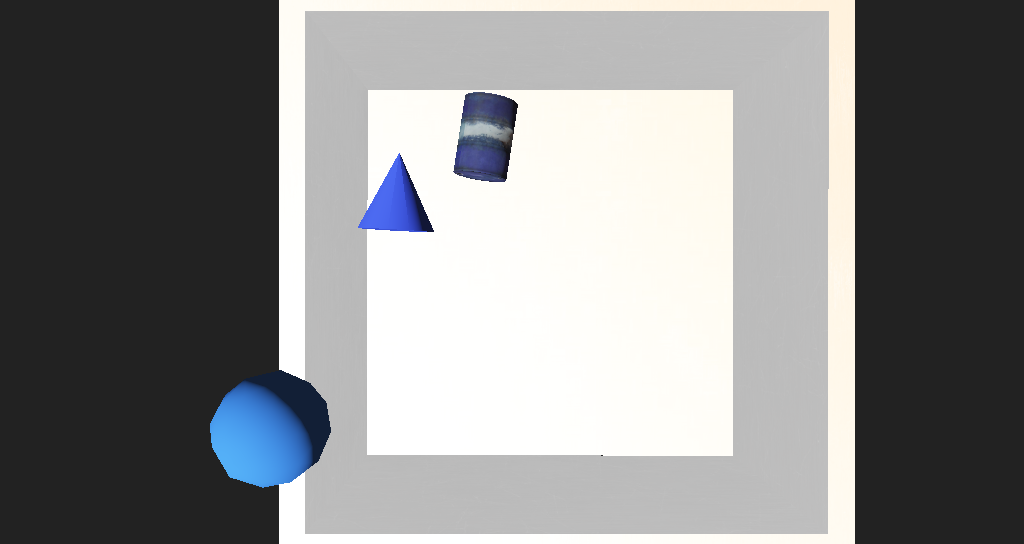cone: (424, 165, 478, 217)
cylinder: (344, 191, 411, 248)
sphere: (239, 322, 327, 384)
